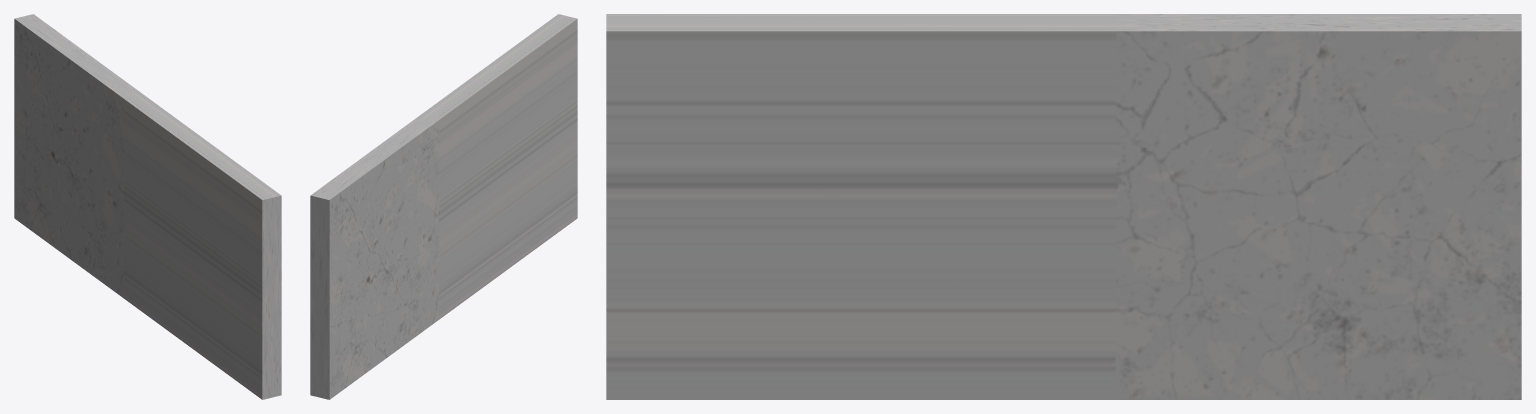
Rendered from concrete_wall.fbx.
The picture shows the model from 3 angles, left to right: view 1: azimuth 30°, elevation 25°; view 2: azimuth 150°, elevation 25°; view 3: azimuth 270°, elevation 25°; orthographic projection. The views are drawn at different scales.
Visible parts, largest first — view 1: Cube; view 2: Cube; view 3: Cube.
Boxes of the visible parts, <box> form: Cube: <box>14,14,281,399</box>; Cube: <box>310,14,577,399</box>; Cube: <box>606,14,1521,399</box>.
Bounding box in the file's own units: 20 × 450 × 200.
1 material, 1 textured.
